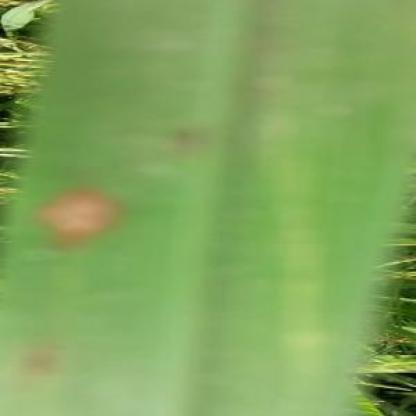Rice blast: (37, 192, 131, 244)
